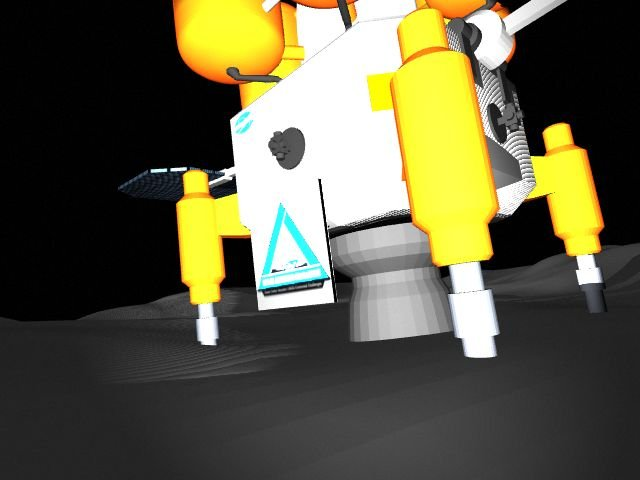basemarker: (258, 203, 330, 299)
